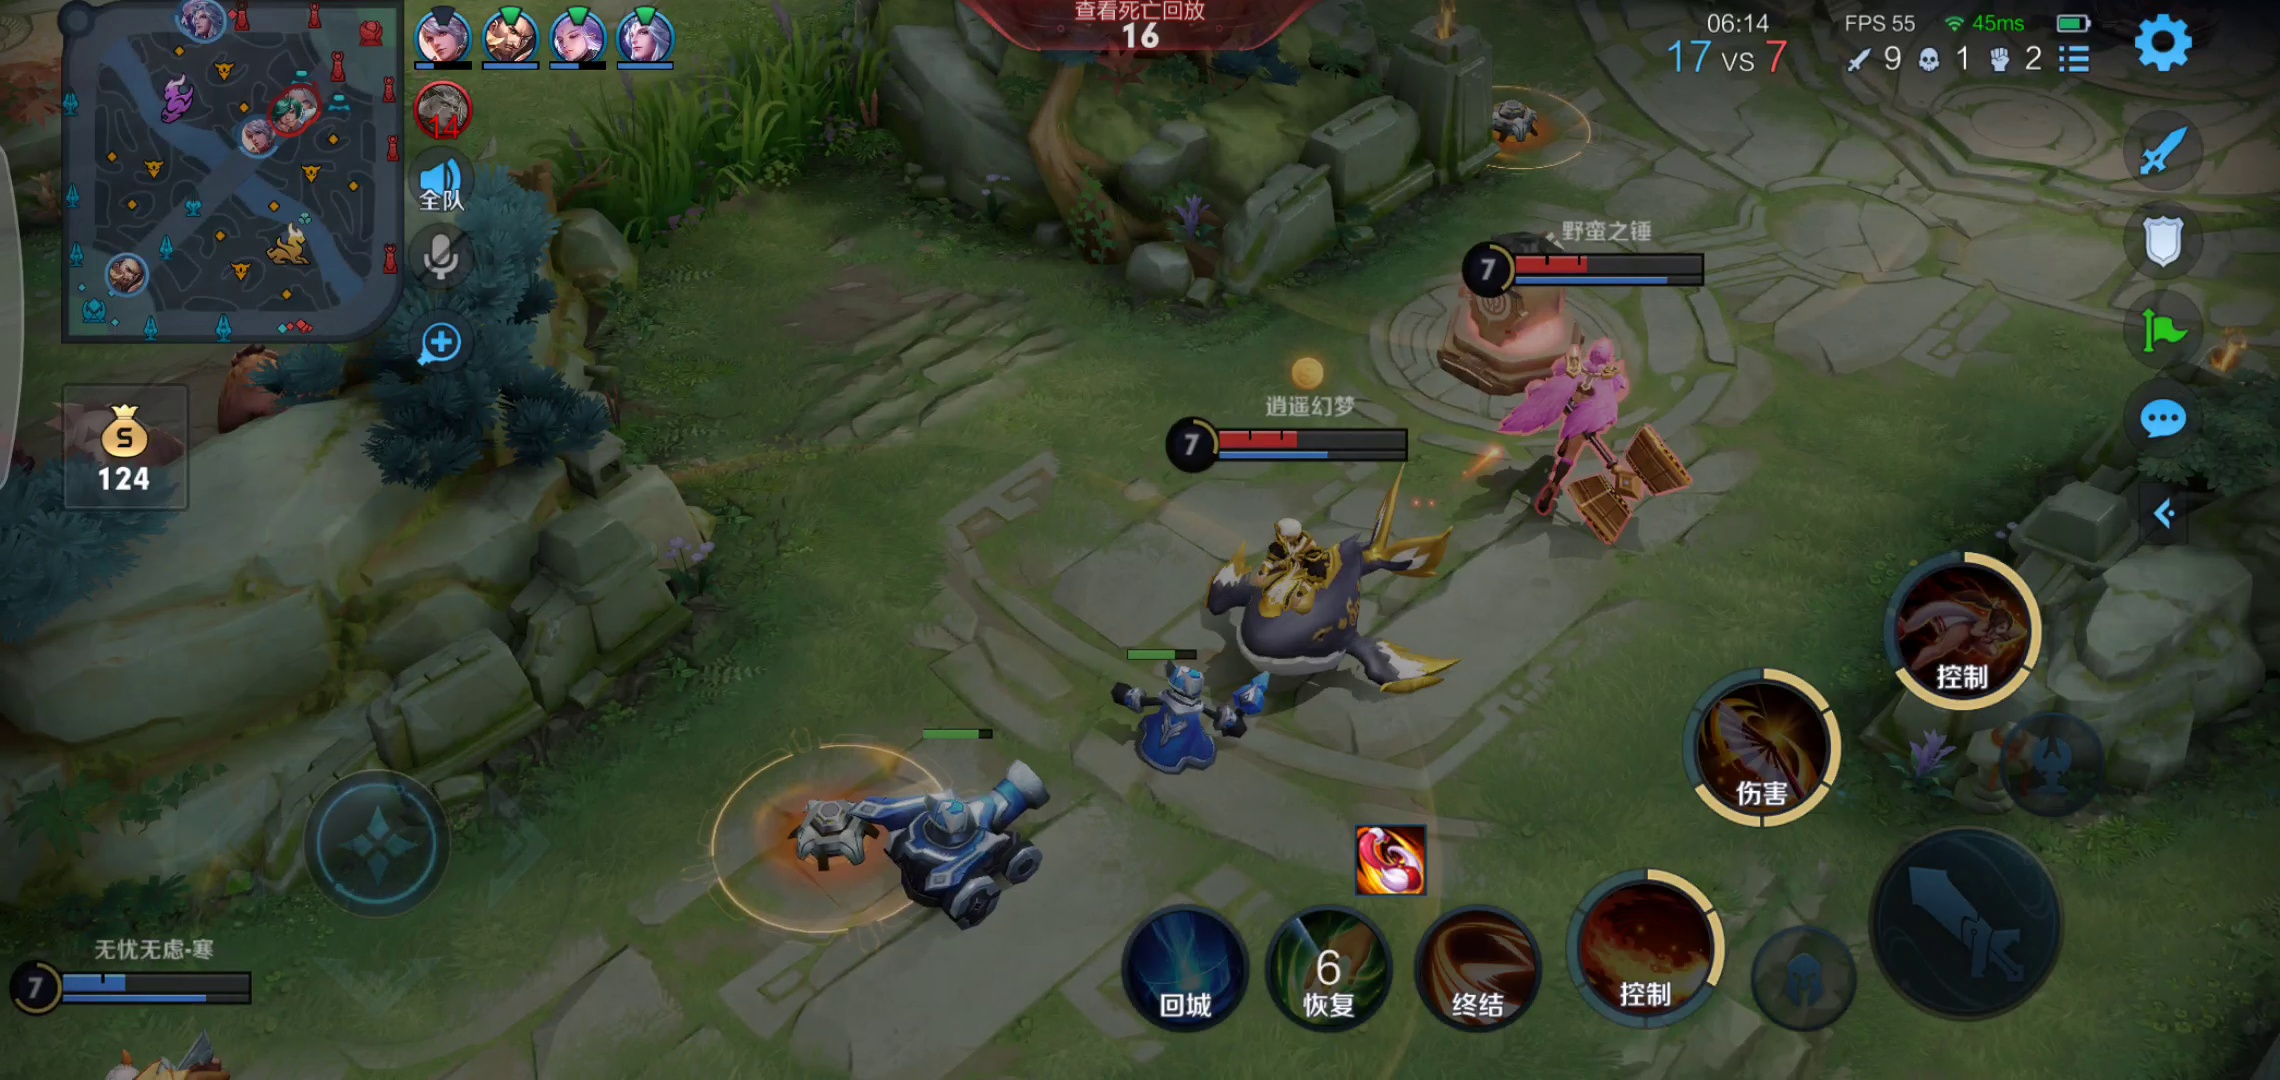grass: (541, 28, 870, 222)
hero: (1492, 329, 1682, 541), (1200, 520, 1415, 680)
soldier: (890, 736, 1044, 919), (1107, 656, 1232, 762)
tower: (1440, 227, 1588, 395)
